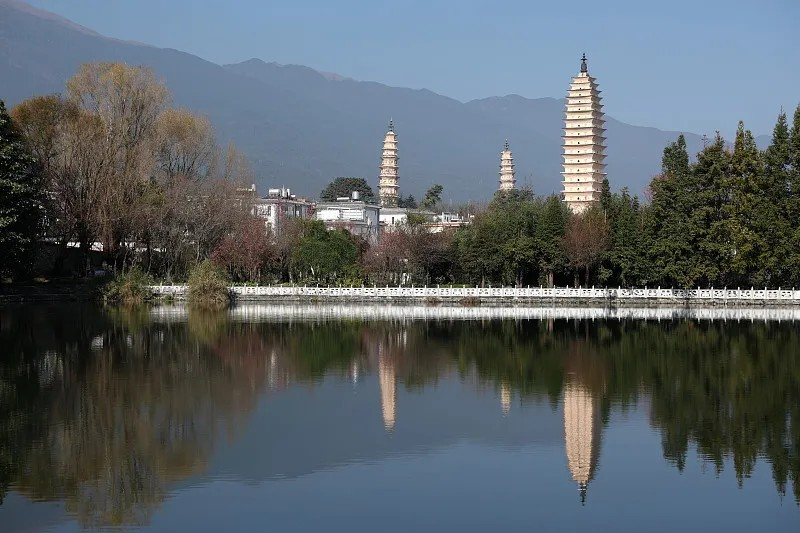ThreePagoda: (560, 52, 607, 216)
